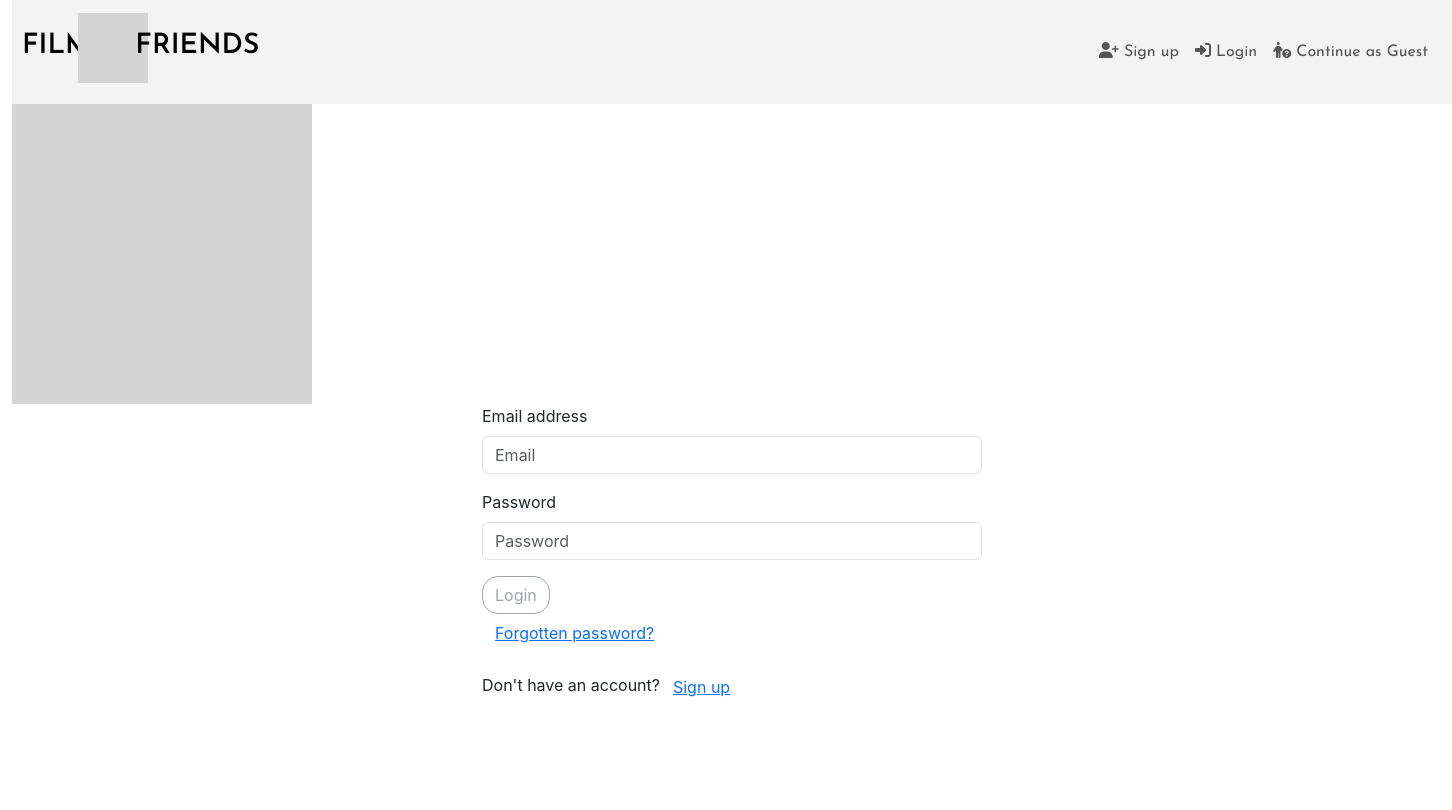
Test: LOGIN FAILURE › System error displays appropriate error message and doesn't redirect user to home page
// Enter data into form
Type "user@email.com" into the field labelled "Email address" at (732, 455), box left=482, top=436, right=982, bottom=474
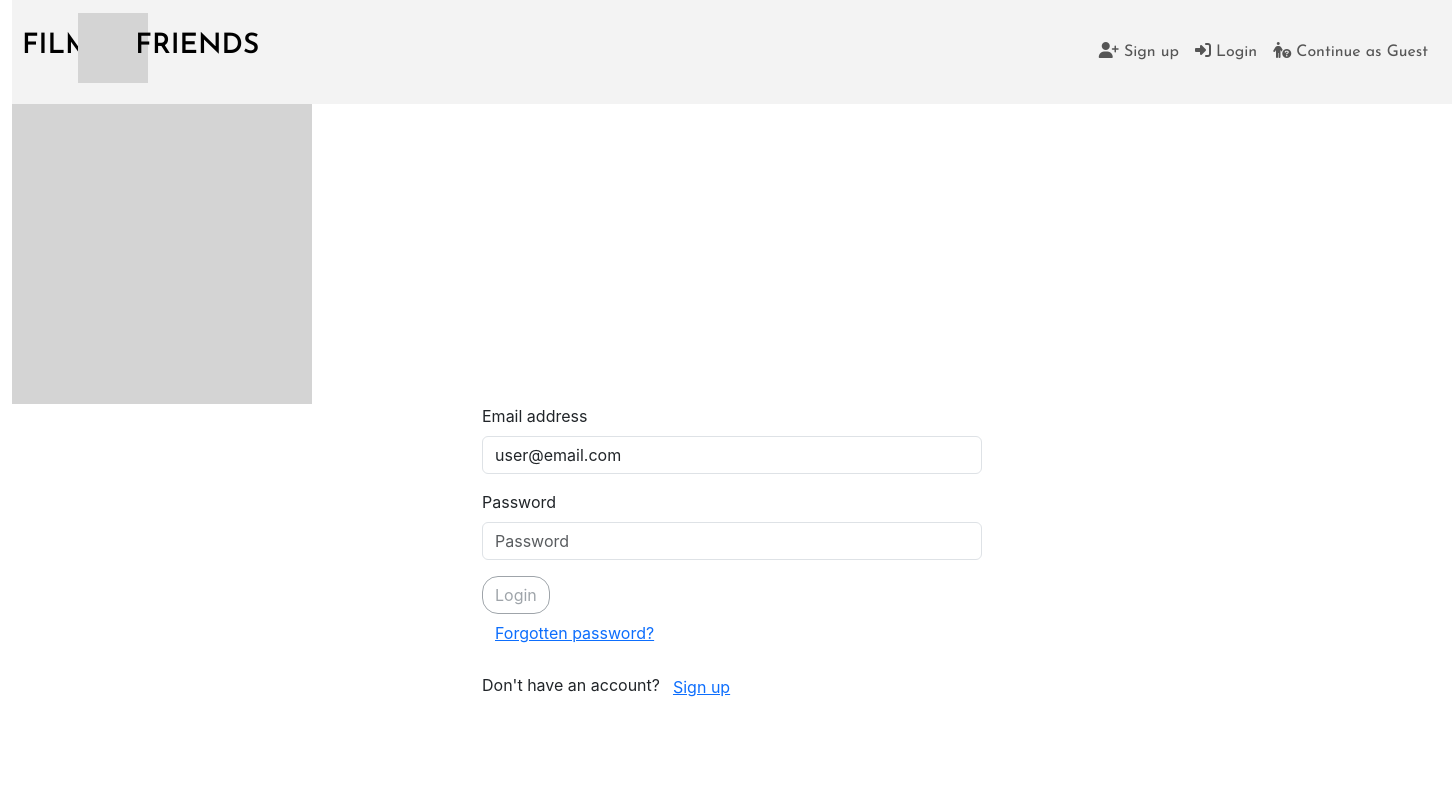
Type "mypwd12345" into the password field labelled "Password" at (732, 541), box left=482, top=522, right=982, bottom=560
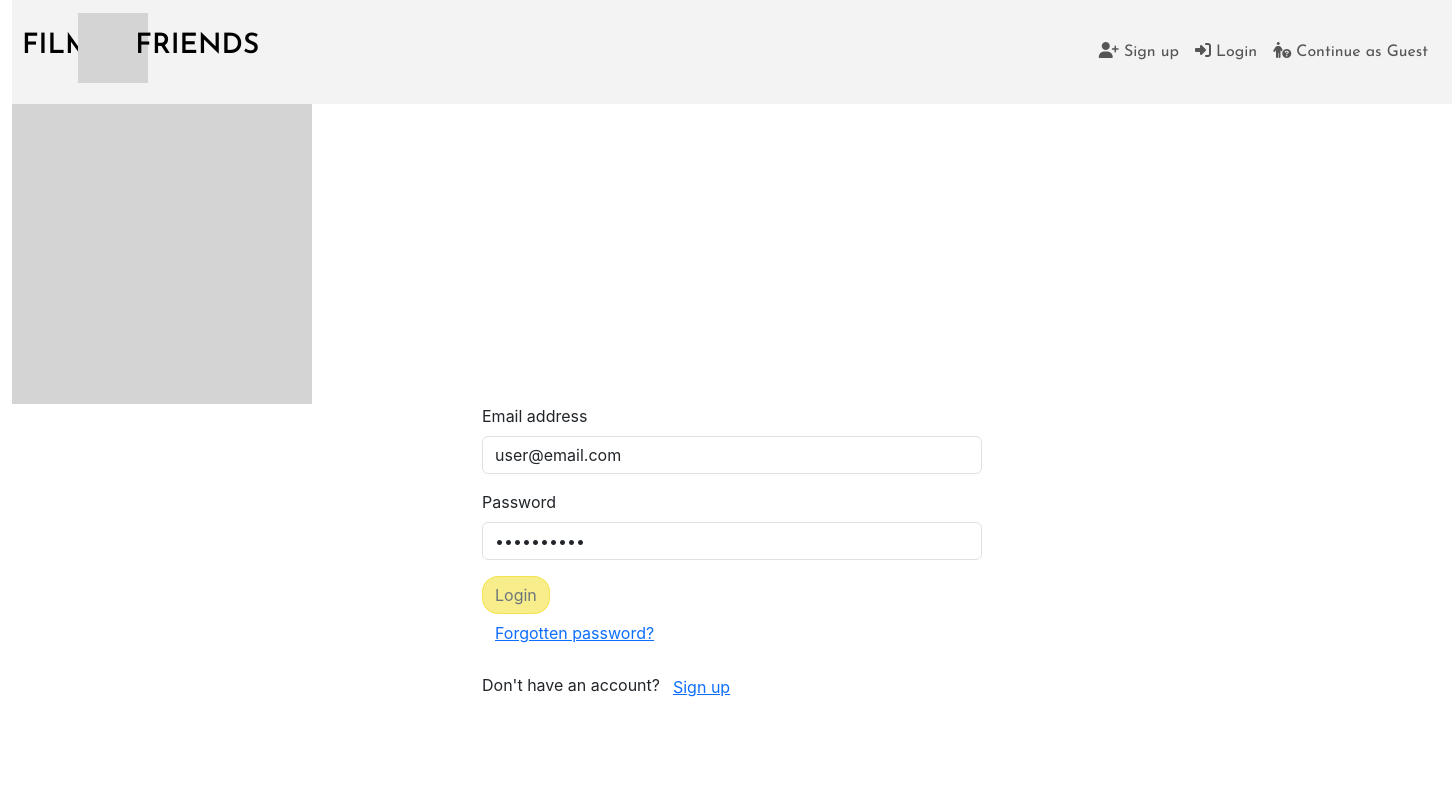
Click the button "Login" at (516, 595), box left=482, top=576, right=550, bottom=614
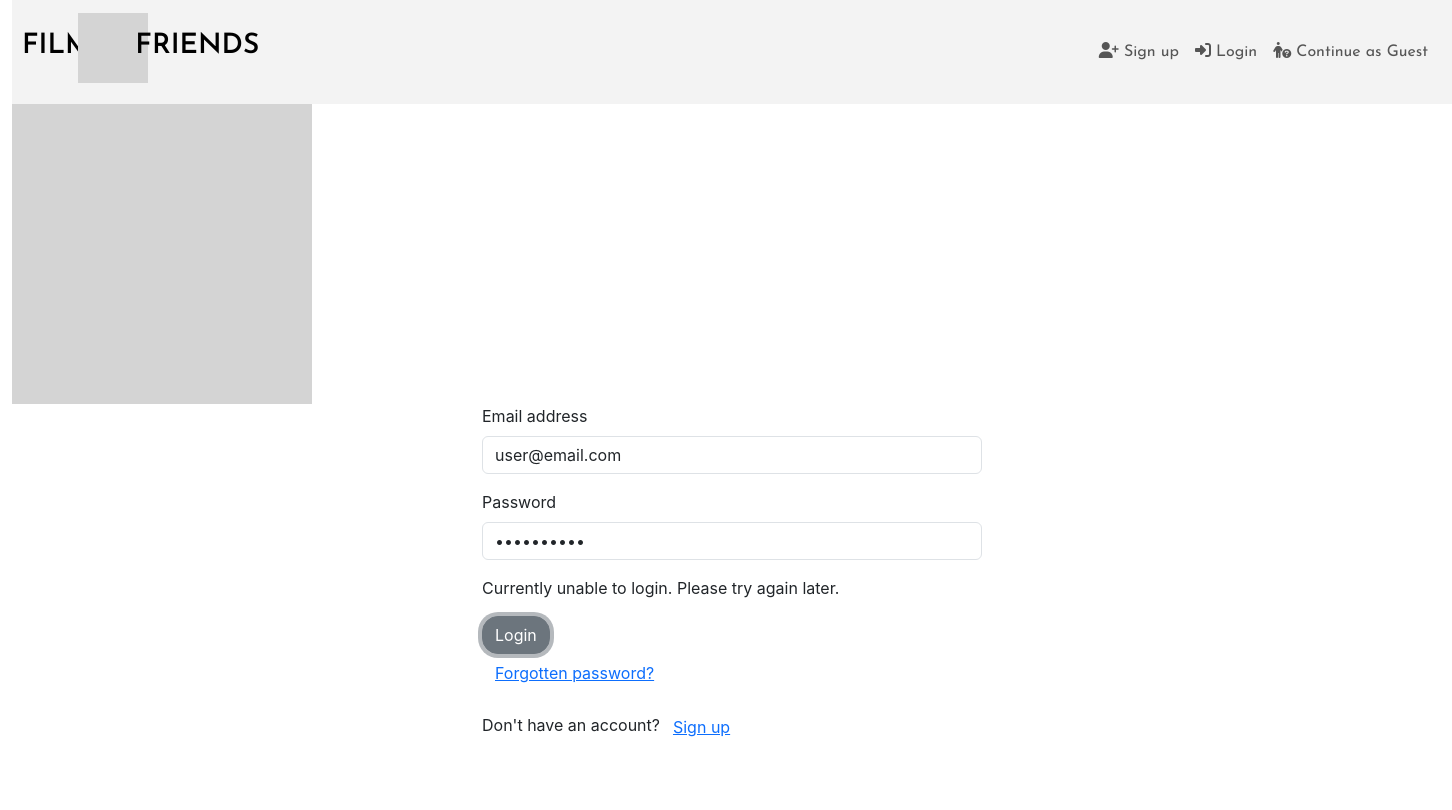
Expected: the text "Currently unable to login. Please try again later." is shown, left=482, top=578, right=839, bottom=598
